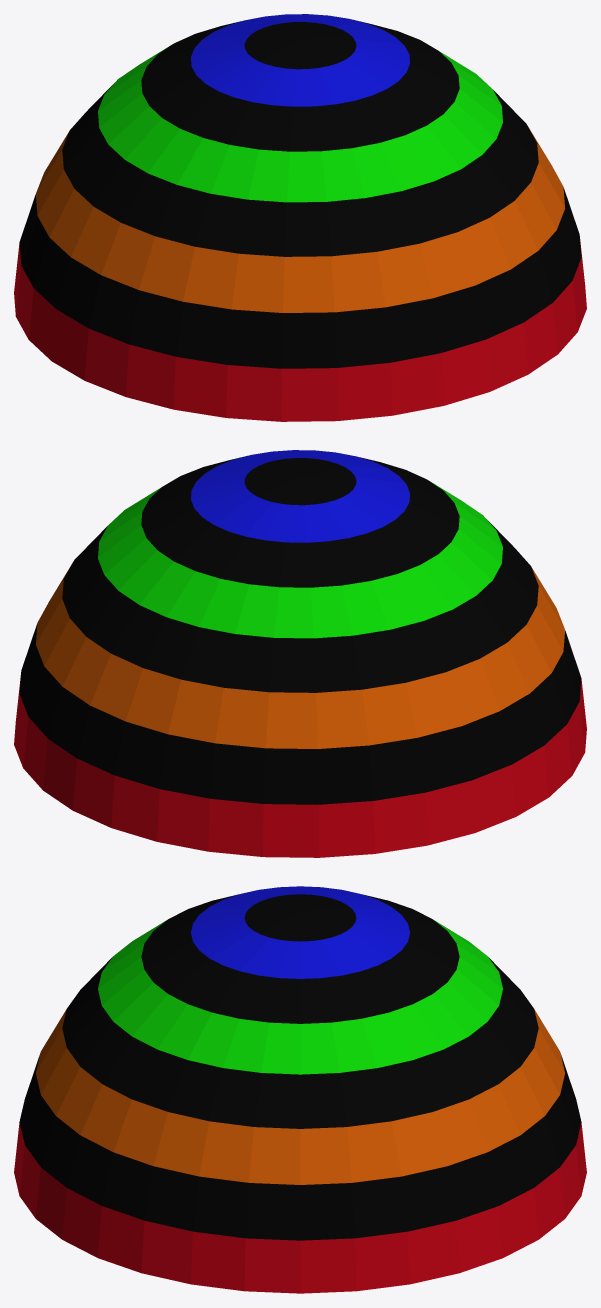
File: curlingF.dae
3 renders of one model, top to bottom at view 1: azimuth 30°, elevation 25°; view 2: azimuth 150°, elevation 25°; view 3: azimuth 270°, elevation 25°, orthographic.
Parts seen in each view (by area): view 1: Sphere; view 2: Sphere; view 3: Sphere.
Boxes of the visible parts, x1,y1,x2,y2 form: Sphere: (14,14,586,421); Sphere: (14,450,586,857); Sphere: (14,886,586,1293).
Bounding box in the file's own units: 20 × 20 × 10.
